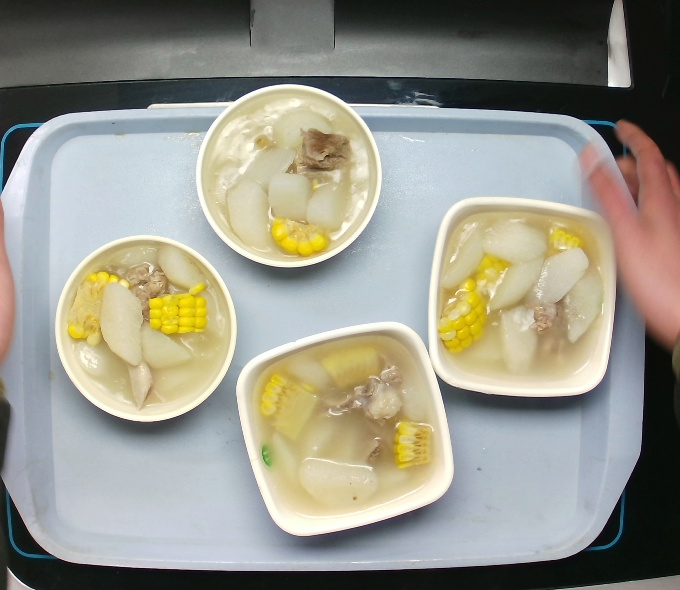wcq-ShanYaoYuMiTang: (247, 332, 442, 518), (432, 208, 609, 387), (61, 239, 231, 412), (203, 91, 377, 259)
